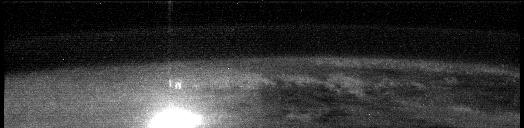positive: (166, 73, 185, 96)
